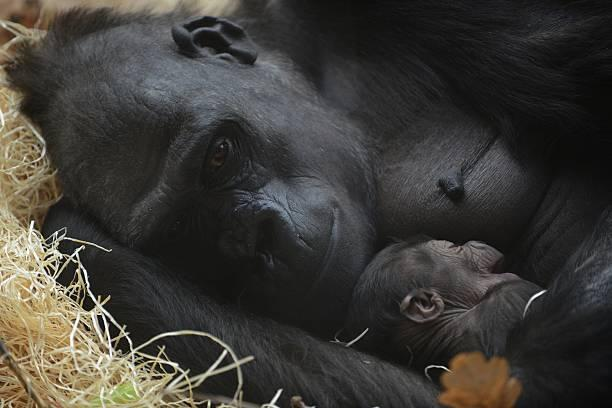gorille_Autres: (22, 0, 612, 408)
